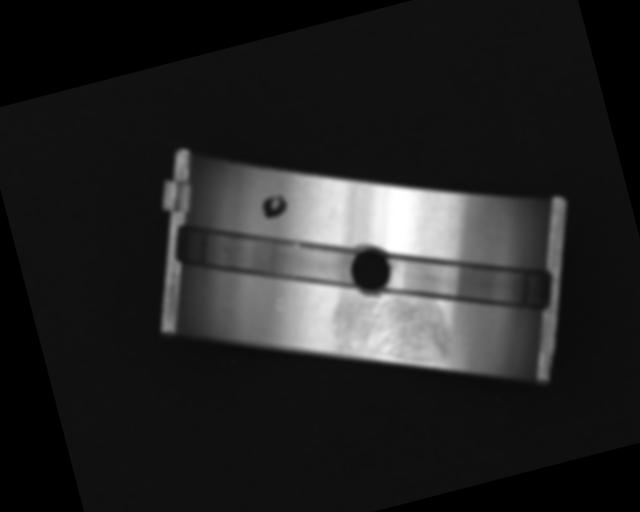blot: (258, 189, 291, 221)
bruise: (273, 295, 286, 313)
gap: (175, 190, 362, 325), (380, 222, 556, 343)
hole: (343, 240, 398, 299)
scratch: (328, 274, 458, 386)
